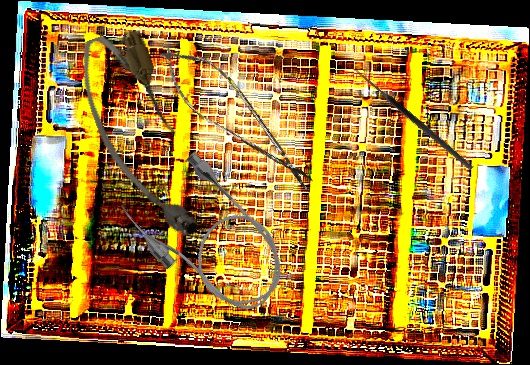Cannula: (112, 141, 305, 336), (68, 22, 212, 252)
Hook Surgical: (345, 65, 475, 177)
Micro Scissor: (143, 29, 330, 204)
